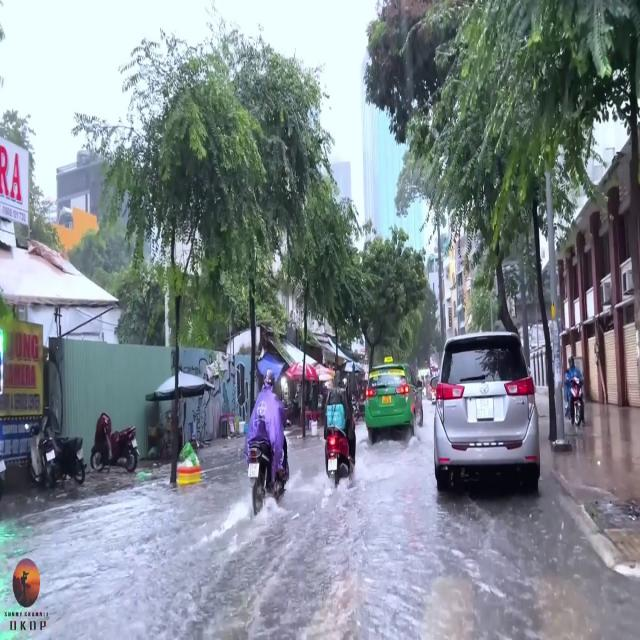bien_vang: (382, 395, 390, 404)
